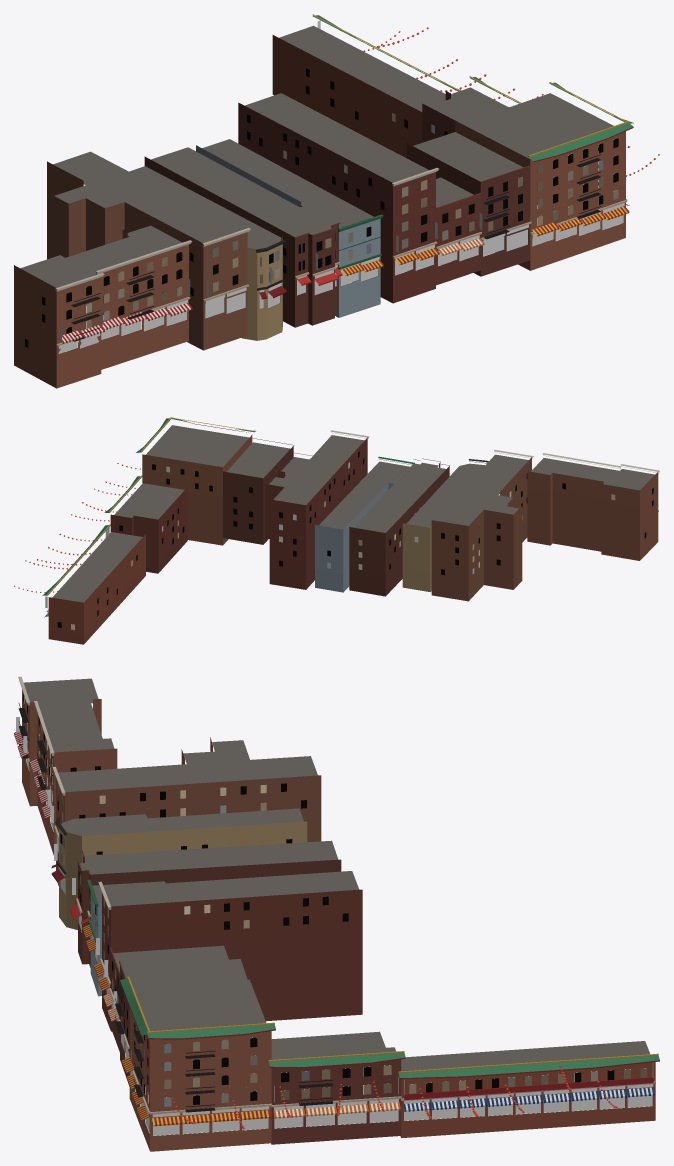
3 renders of one model, top to bottom at view 1: azimuth 30°, elevation 25°; view 2: azimuth 150°, elevation 25°; view 3: azimuth 270°, elevation 25°, orthographic. The views are drawn at different scales.
Parts seen in each view (by area): view 1: L1_brickred, L1_roof, L1_win, L1_stucco, L1_shopint, L1_d_fabric, L1_stone, L1_d_brickred, L1_sign, L1_d_metal, L1_rooftile, L1_d_paint (+1 smaller); view 2: L1_brickred, L1_roof, L1_stucco, L1_win, L1_d_brickred, L1_d_stucco, L1_stone, L1_rooftile, L1_d_paint; view 3: L1_brickred, L1_roof, L1_stucco, L1_d_fabric, L1_win, L1_shopint, L1_rooftile, L1_d_paint, L1_sign, L1_stone, L1_d_metal.
Part boxes in pixels (<box>): L1_brickred: <box>14,35,625,388</box>; L1_roof: <box>20,25,613,287</box>; L1_win: <box>25,68,618,347</box>; L1_stucco: <box>242,218,380,340</box>; L1_shopint: <box>58,215,623,353</box>; L1_d_fabric: <box>58,204,629,343</box>; L1_stone: <box>55,165,627,346</box>; L1_d_brickred: <box>48,143,538,276</box>; L1_sign: <box>59,20,624,348</box>; L1_d_metal: <box>71,147,600,341</box>; L1_rooftile: <box>312,15,633,160</box>; L1_d_paint: <box>312,14,633,162</box>; L1_brickred: <box>48,435,658,644</box>; L1_roof: <box>52,425,654,602</box>; L1_stucco: <box>315,483,430,592</box>; L1_win: <box>57,451,653,629</box>; L1_d_brickred: <box>263,446,522,589</box>; L1_d_stucco: <box>343,464,431,592</box>; L1_stone: <box>47,430,659,613</box>; L1_rooftile: <box>42,417,255,595</box>; L1_d_paint: <box>46,417,254,611</box>; L1_brickred: <box>22,689,655,1151</box>; L1_roof: <box>24,678,649,1071</box>; L1_stucco: <box>59,821,307,995</box>; L1_d_fabric: <box>14,731,654,1126</box>; L1_win: <box>23,694,647,1106</box>; L1_shopint: <box>26,759,652,1135</box>; L1_rooftile: <box>120,978,659,1077</box>; L1_d_paint: <box>120,976,659,1100</box>; L1_sign: <box>16,717,653,1117</box>; L1_stone: <box>18,676,655,1114</box>; L1_d_metal: <box>18,703,333,1112</box>.
Bounding box in the file's own units: 137 × 28.82 × 106.
